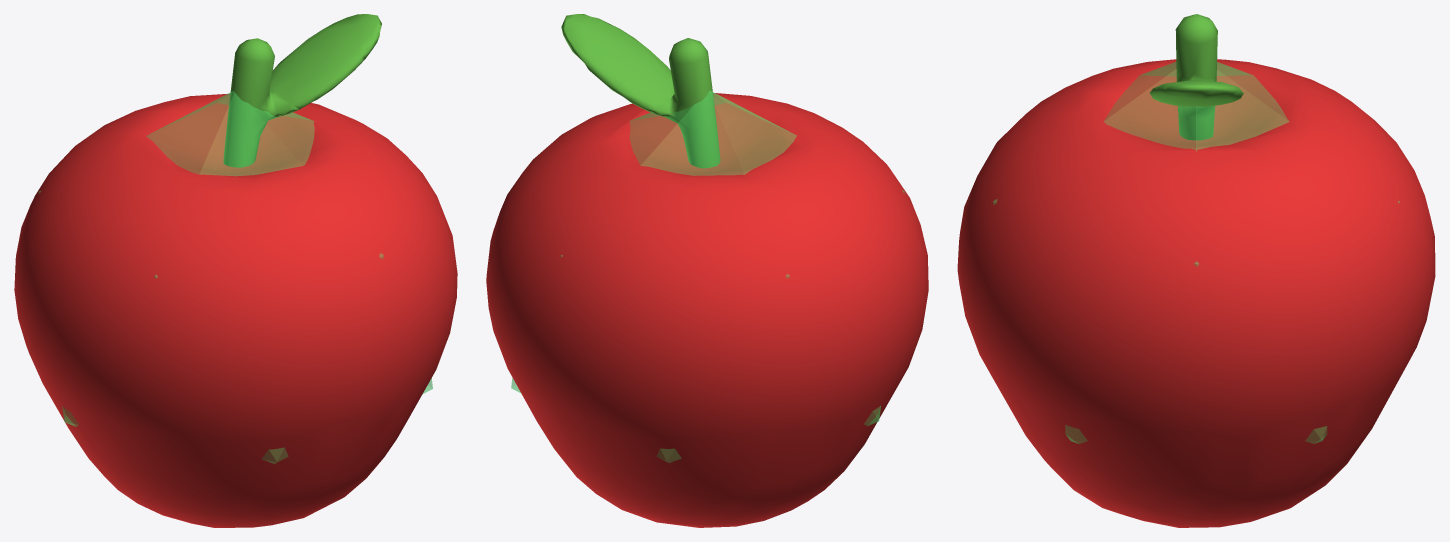
Rendered from Piece_02_Apple.fbx.
3 renders of one model, left to right at view 1: azimuth 30°, elevation 25°; view 2: azimuth 150°, elevation 25°; view 3: azimuth 270°, elevation 25°, orthographic. The views are drawn at different scales.
Visible parts, largest first — view 1: Piece_02_Apple, COL_Piece_02; view 2: Piece_02_Apple, COL_Piece_02; view 3: Piece_02_Apple, COL_Piece_02.
Part boxes in pixels (bbox=[...]): Piece_02_Apple: bbox=[14, 14, 457, 527]; COL_Piece_02: bbox=[39, 91, 432, 463]; Piece_02_Apple: bbox=[486, 14, 928, 527]; COL_Piece_02: bbox=[511, 91, 904, 462]; Piece_02_Apple: bbox=[957, 14, 1435, 527]; COL_Piece_02: bbox=[993, 62, 1399, 443].
Size of the model in its own units: 0.0535 by 0.0595 by 0.0535.
